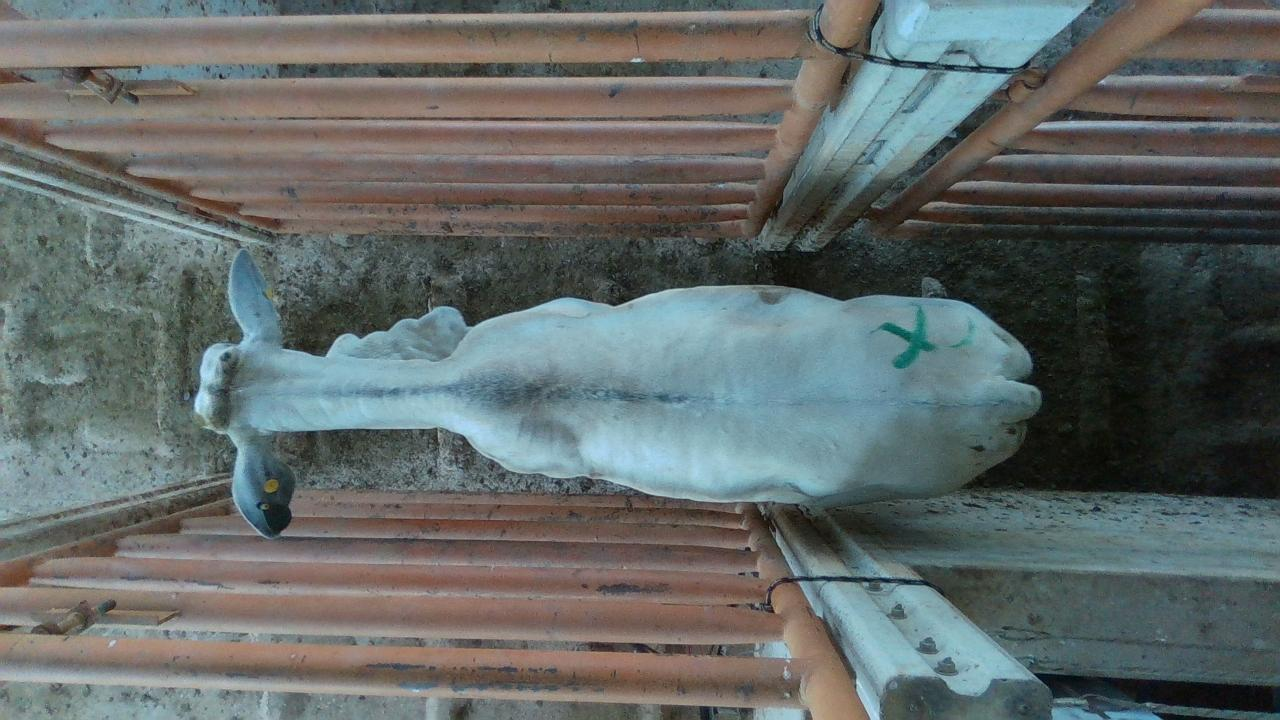cattle: (191, 246, 1042, 538)
